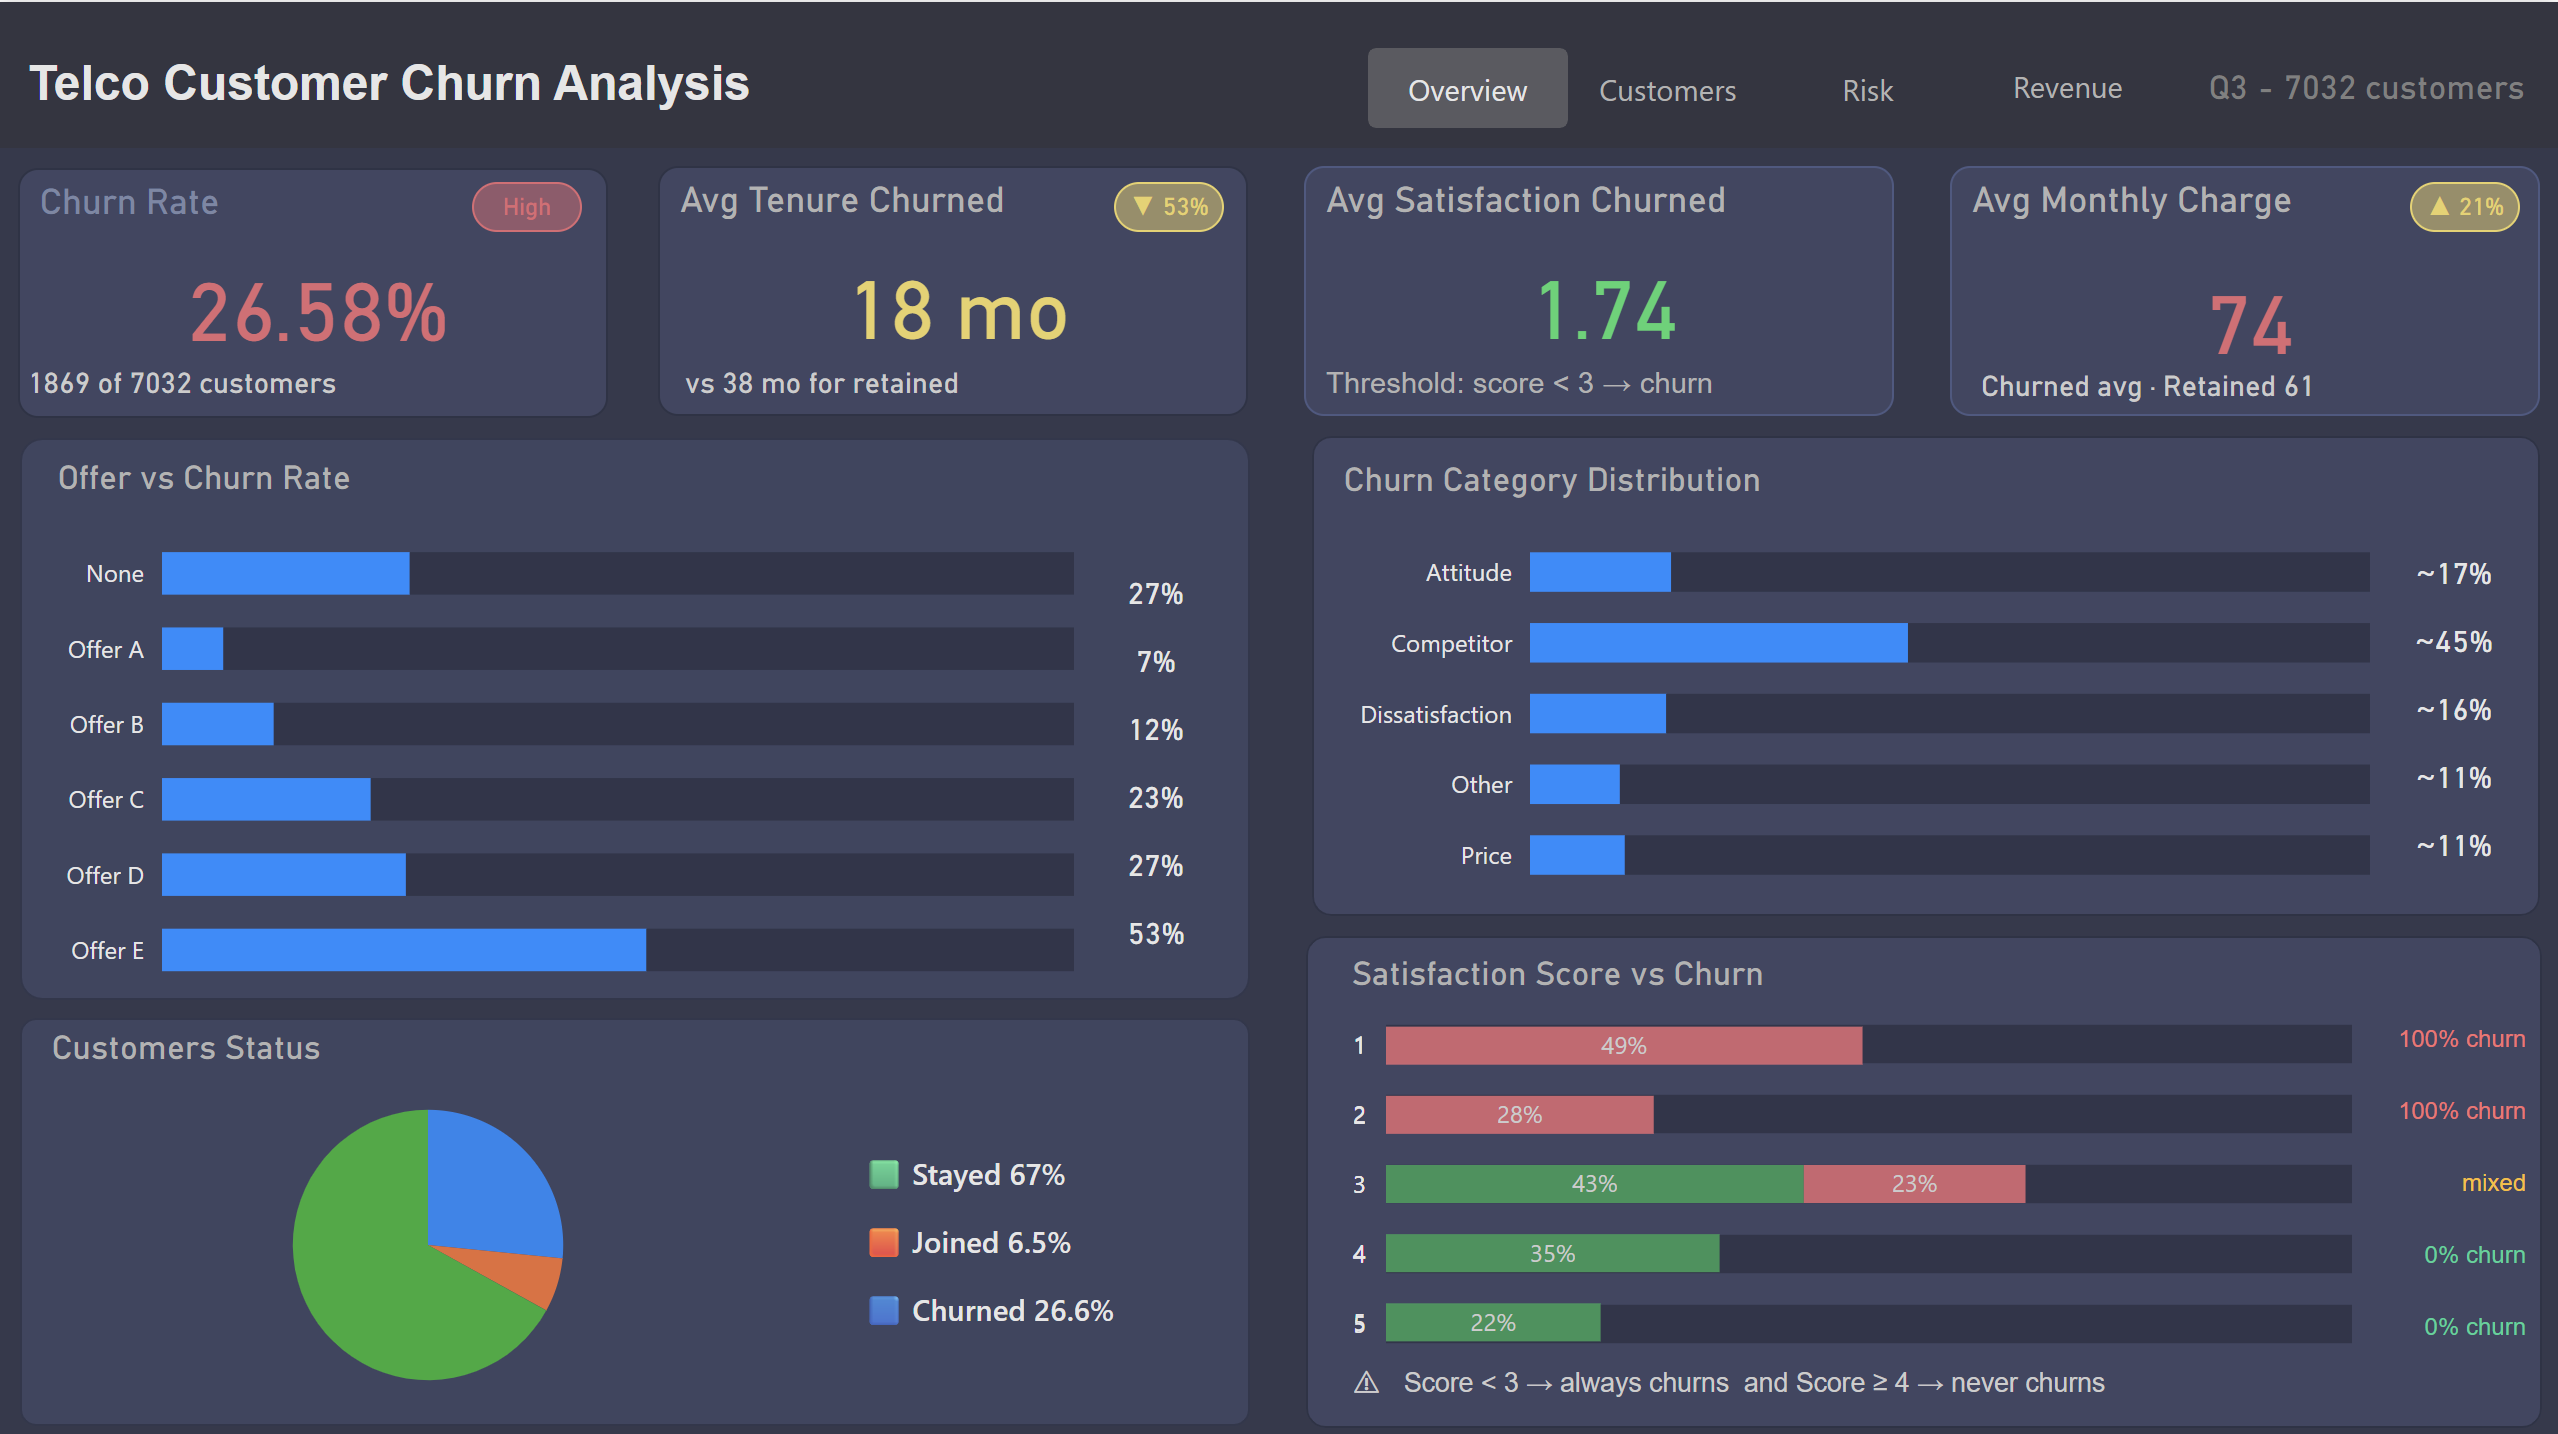

The page's visual inventory and layout, read from the dashboard file:
{"tool":"powerbi","page":{"name":"0verview","canvas":[1280,720],"ordinal":0},"visuals":[{"type":"shape","box":[0,0,1280,72.9],"z":0,"group":"g9"},{"type":"card","title":"Avg Tenure Churned","fields":{"Values":["_calculation.Avg Tenure Churned Label"]},"box":[330.1,82.1,295,125],"z":0,"group":"g7"},{"type":"card","title":"Avg Satisfaction Churned","fields":{"Values":["_calculation.Avg Satisfaction Score Churned"]},"box":[652.7,82.1,295,125],"z":0,"group":"g5"},{"type":"card","title":"Avg Monthly Charge","fields":{"Values":["_calculation.Avg Monthly Charge"]},"box":[976.4,82.1,295,125],"z":0,"group":"g6"},{"type":"card","title":"Churn Rate","fields":{"Values":["_calculation.Churn Rate"]},"box":[10.2,83,295,125],"z":0,"group":"g8"},{"type":"shape","box":[657,217,614,240],"z":0,"group":"g4"},{"type":"shape","box":[11.4,217.9,614.4,281],"z":0,"group":"g1"},{"type":"shape","box":[654.2,466.7,618.1,245.8],"z":0,"group":"g3"},{"type":"shape","box":[11.3,507.6,614.4,203.9],"z":0,"group":"g2"},{"type":"textbox","box":[10.3,22,376.4,51.3],"z":1000,"group":"g9"},{"type":"card","title":"Tenure Gap","fields":{"Values":["_calculation.Tenure Gap Badge"]},"box":[558.1,90.1,55,25],"z":1000,"group":"g7"},{"type":"card","title":"Tenure Gap","fields":{"Values":["_calculation.Monthly Charge Gap Badge"]},"box":[1205.6,90.3,55.6,25],"z":1000,"group":"g6"},{"type":"card","fields":{"Values":["_calculation.Churn Subtitle"]},"box":[10,176,168,32],"z":1000,"group":"g8"},{"type":"textbox","box":[654,176,228,34],"z":1000,"group":"g5"},{"type":"group","id":"g1","title":"Offer","box":[10,209,618.6,342],"z":1000},{"type":"barChart","title":"Offer vs Churn Rate","fields":{"Category":["telco telco_customer_churn_services.Offer"],"Y":["_calculation.Offer %","_calculation.1  progress bar"]},"box":[10,217.9,547.8,288.5],"z":1000,"group":"g1"},{"type":"barChart","title":"Churn Category Distribution","fields":{"Y":["_calculation.Churn Category %","_calculation.1"],"Category":["telco telco_customer_churn_status.Churn Category"]},"box":[652.8,219.4,552.8,237.5],"z":1000,"group":"g4"},{"type":"pieChart","title":"Customers Status","fields":{"Y":["_calculation.Customers Count"],"Series":["telco telco_customer_churn_status.Customer Status"]},"box":[7.1,502.9,400.8,208.4],"z":1000,"group":"g2"},{"type":"textbox","box":[673.6,673.6,427.8,37.5],"z":1000,"group":"g3"},{"type":"card","fields":{"Values":["_calculation.Sub Header"]},"box":[1098.6,18.6,171.4,48.6],"z":2000,"group":"g9"},{"type":"card","title":"Tenure Gap","fields":{"Values":["_calculation.Churn Rate Badge"]},"box":[237.3,90.1,55,25],"z":2000,"group":"g8"},{"type":"card","fields":{"Values":["_calculation.Tenure Subtitle"]},"box":[330,176,168,32],"z":2000,"group":"g7"},{"type":"card","fields":{"Values":["_calculation.Monthly Charge Subtitle"]},"box":[976,177,202,33],"z":2000,"group":"g6"},{"type":"card","fields":{"Values":["_calculation.Offer Legend"]},"box":[528.7,209,99.9,342],"z":2000,"group":"g1"},{"type":"card","fields":{"Values":["_calculation.Churn Category % Side Chart"]},"box":[1187.5,250,80.6,206.9],"z":2000,"group":"g4"},{"type":"barChart","title":"Churn Category Distribution","fields":{"Category":["telco telco_customer_churn_status.Satisfaction Score"],"Series":["telco vw_customer_status.Churn Label"],"Y":["_calculation.1  progress bar"]},"box":[657,488.9,530.6,213.9],"z":2000,"group":"g3"},{"type":"group","id":"g2","title":"Customer Status","box":[7.1,502.9,618.6,208.6],"z":2000},{"type":"cardVisual","fields":{"Data":["_calculation.Customer Stayed Legend","_calculation.Customer Joined Legend","_calculation.Customer Churned Legend"]},"box":[403.9,553.7,188.3,129.3],"z":2000,"group":"g2"},{"type":"actionButton","title":"Button revenue","box":[985,21.7,100.4,39.4],"z":2062,"group":"g10"},{"type":"actionButton","title":"Button risk","box":[885,22.8,100,40],"z":2125,"group":"g10"},{"type":"actionButton","title":"Button overview","box":[685,22.8,100,40],"z":2250,"group":"g10"},{"type":"actionButton","title":"Button customer","box":[785,22.8,100,40],"z":2500,"group":"g10"},{"type":"group","id":"g3","title":"Staisfaction score","box":[654.2,466.7,618.1,245.8],"z":3000},{"type":"barChart","title":"Satisfaction Score vs Churn","fields":{"Category":["telco telco_customer_churn_status.Satisfaction Score"],"Y":["_calculation.Satisfaction %"],"Series":["telco vw_customer_status.Churn Label"]},"box":[657,466.7,530.6,234.7],"z":3000,"group":"g3"},{"type":"group","id":"g4","title":"Churn Categories","box":[652.8,217,618.2,240],"z":4000},{"type":"textbox","box":[1168.1,502.8,101.4,180.6],"z":4000,"group":"g3"},{"type":"group","id":"g5","title":"Group 5","box":[652.7,82.1,295,127.9],"z":5000},{"type":"group","id":"g6","title":"Group 6","box":[976,82.1,295.4,127.9],"z":6000},{"type":"group","id":"g7","title":"Group 7","box":[330,82.1,295.1,125.9],"z":7000},{"type":"group","id":"g8","title":"Group 8","box":[10,83,295.2,125],"z":8000},{"type":"group","id":"g9","title":"Header","box":[0,0,1280,73.2],"z":9000},{"type":"group","id":"g10","title":"Group 1","box":[685,21.7,400.4,41.1],"z":9001,"group":"g9"}]}

Visuals, with their boxes in screenshot pixels (x1, y1, x2, y2), scaled from the page's 1280x720 canvas onto the 2558x1434 screenshot:
shape: (x1=0, y1=0, x2=2557, y2=145)
"Avg Tenure Churned" card: (x1=660, y1=164, x2=1249, y2=412)
"Avg Satisfaction Churned" card: (x1=1304, y1=164, x2=1894, y2=412)
"Avg Monthly Charge" card: (x1=1951, y1=164, x2=2541, y2=412)
"Churn Rate" card: (x1=20, y1=165, x2=610, y2=414)
shape: (x1=1313, y1=432, x2=2540, y2=910)
shape: (x1=23, y1=434, x2=1251, y2=994)
shape: (x1=1307, y1=930, x2=2543, y2=1419)
shape: (x1=23, y1=1011, x2=1250, y2=1417)
textbox: (x1=21, y1=44, x2=773, y2=146)
"Tenure Gap" card: (x1=1115, y1=179, x2=1225, y2=229)
"Tenure Gap" card: (x1=2409, y1=180, x2=2520, y2=230)
card - _calculation.Churn Subtitle: (x1=20, y1=351, x2=356, y2=414)
textbox: (x1=1307, y1=351, x2=1763, y2=418)
"Offer" group: (x1=20, y1=416, x2=1256, y2=1097)
"Offer vs Churn Rate" barChart: (x1=20, y1=434, x2=1115, y2=1009)
"Churn Category Distribution" barChart: (x1=1305, y1=437, x2=2409, y2=910)
"Customers Status" pieChart: (x1=14, y1=1002, x2=815, y2=1417)
textbox: (x1=1346, y1=1342, x2=2201, y2=1416)
card - _calculation.Sub Header: (x1=2195, y1=37, x2=2538, y2=134)
"Tenure Gap" card: (x1=474, y1=179, x2=584, y2=229)
card - _calculation.Tenure Subtitle: (x1=659, y1=351, x2=995, y2=414)
card - _calculation.Monthly Charge Subtitle: (x1=1950, y1=353, x2=2354, y2=418)
card - _calculation.Offer Legend: (x1=1057, y1=416, x2=1256, y2=1097)
card - _calculation.Churn Category % Side Chart: (x1=2373, y1=498, x2=2534, y2=910)
"Churn Category Distribution" barChart: (x1=1313, y1=974, x2=2373, y2=1400)
"Customer Status" group: (x1=14, y1=1002, x2=1250, y2=1417)
cardVisual - _calculation.Customer Stayed Legend x _calculation.Customer Joined Legend: (x1=807, y1=1103, x2=1183, y2=1360)
"Button revenue" actionButton: (x1=1968, y1=43, x2=2169, y2=122)
"Button risk" actionButton: (x1=1769, y1=45, x2=1968, y2=125)
"Button overview" actionButton: (x1=1369, y1=45, x2=1569, y2=125)
"Button customer" actionButton: (x1=1569, y1=45, x2=1769, y2=125)
"Staisfaction score" group: (x1=1307, y1=930, x2=2543, y2=1419)
"Satisfaction Score vs Churn" barChart: (x1=1313, y1=930, x2=2373, y2=1397)
"Churn Categories" group: (x1=1305, y1=432, x2=2540, y2=910)
textbox: (x1=2334, y1=1001, x2=2537, y2=1361)
"Group 5" group: (x1=1304, y1=164, x2=1894, y2=418)
"Group 6" group: (x1=1950, y1=164, x2=2541, y2=418)
"Group 7" group: (x1=659, y1=164, x2=1249, y2=414)
"Group 8" group: (x1=20, y1=165, x2=610, y2=414)
"Header" group: (x1=0, y1=0, x2=2557, y2=146)
"Group 1" group: (x1=1369, y1=43, x2=2169, y2=125)
